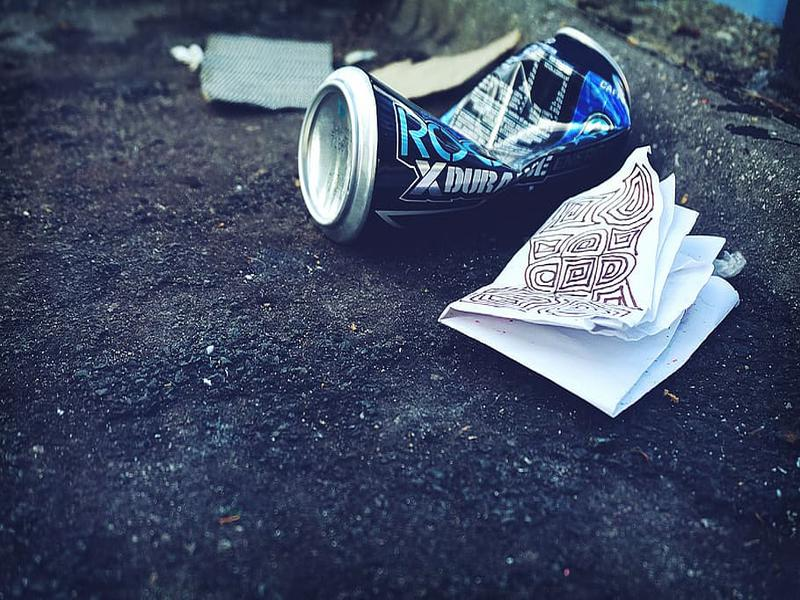can: (287, 24, 637, 239)
paper: (427, 142, 743, 421)
